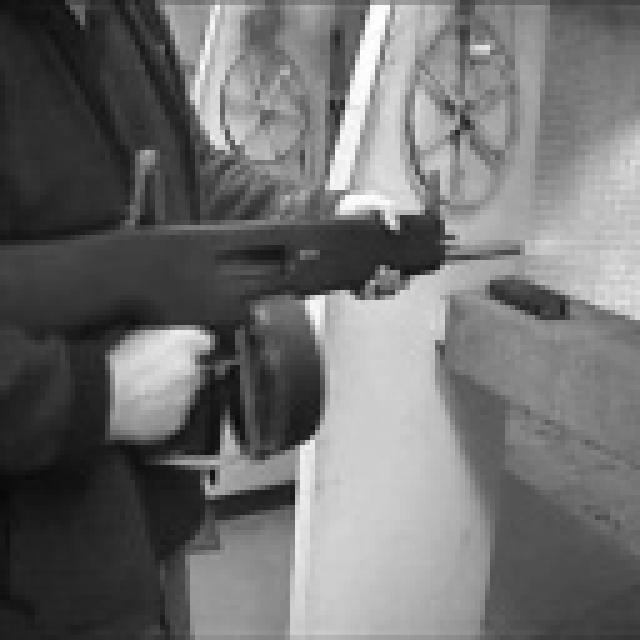Rifle: (0, 140, 550, 471)
